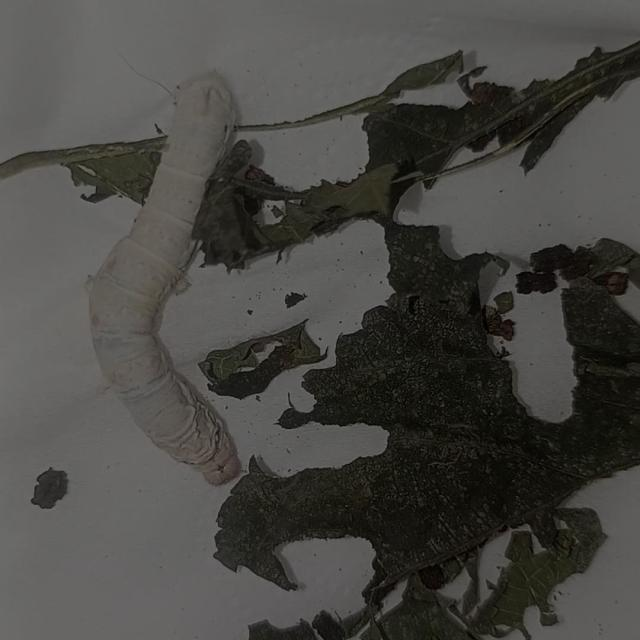Healthy: (63, 48, 291, 521)
